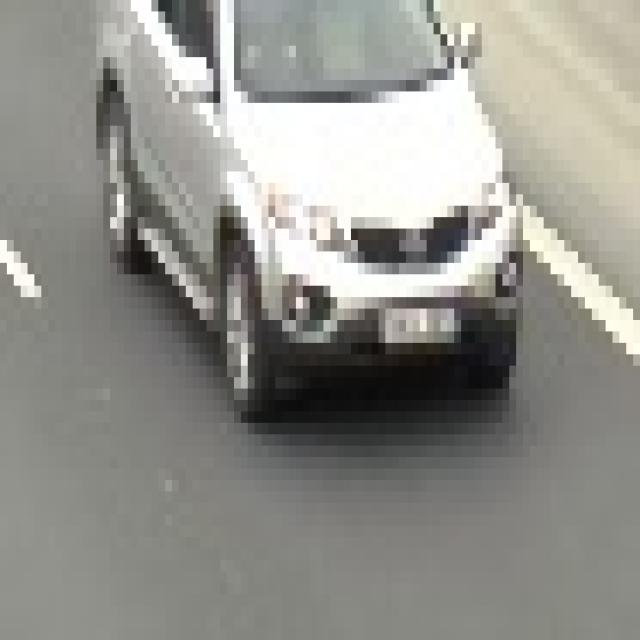SUV: (106, 2, 503, 390)
